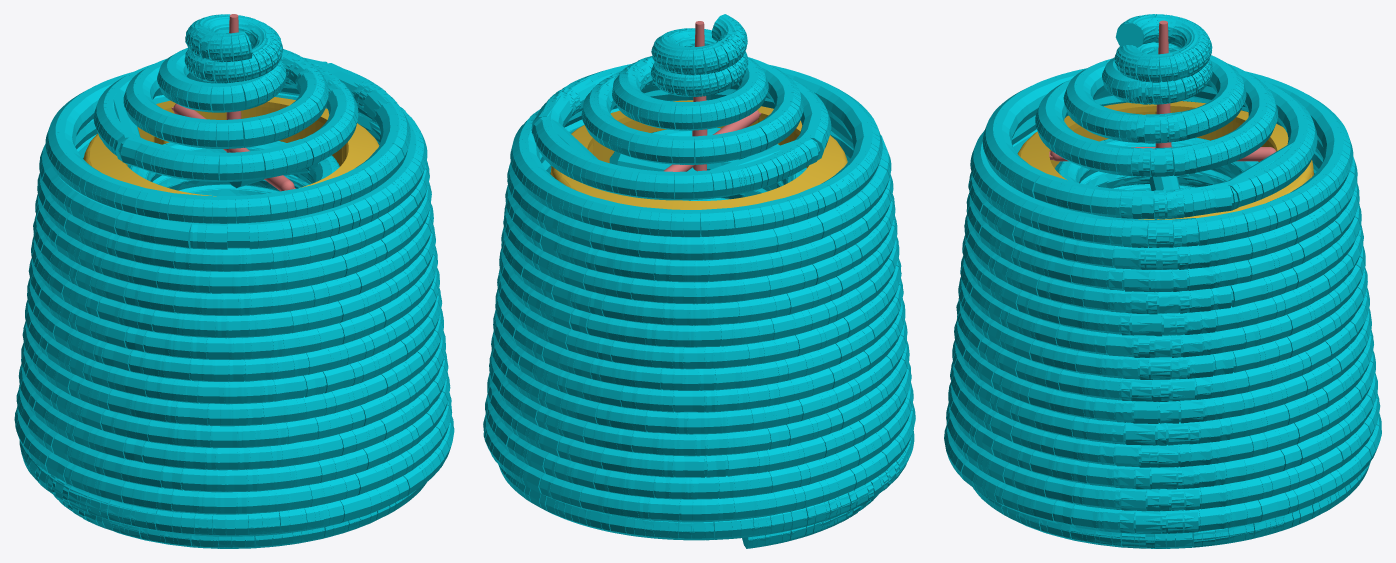
The model's file is conformal_mold_core_assembly.glb.
3 views of the same model, side by side, from view 1: azimuth 30°, elevation 25°; view 2: azimuth 150°, elevation 25°; view 3: azimuth 270°, elevation 25° (orthographic).
Visible parts, largest first — view 1: Helical_Conformal_Cooling, Plastic_Part_PEEK, Hot_Runner_System; view 2: Helical_Conformal_Cooling, Plastic_Part_PEEK, Hot_Runner_System; view 3: Helical_Conformal_Cooling, Plastic_Part_PEEK, Hot_Runner_System.
Boxes of the visible parts, bbox=[...] form: Helical_Conformal_Cooling: bbox=[14, 14, 454, 548]; Plastic_Part_PEEK: bbox=[83, 97, 379, 196]; Hot_Runner_System: bbox=[171, 14, 295, 191]; Helical_Conformal_Cooling: bbox=[483, 14, 915, 548]; Plastic_Part_PEEK: bbox=[550, 100, 847, 209]; Hot_Runner_System: bbox=[663, 21, 761, 171]; Helical_Conformal_Cooling: bbox=[944, 14, 1381, 548]; Plastic_Part_PEEK: bbox=[1017, 101, 1313, 219]; Hot_Runner_System: bbox=[1049, 20, 1276, 161].
Bounding box in the file's own units: 150 × 174 × 151.
